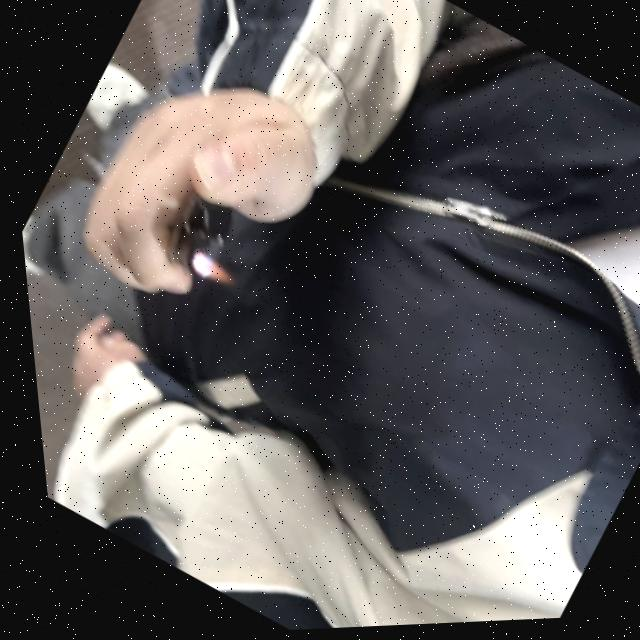Fire: (177, 249, 233, 295)
